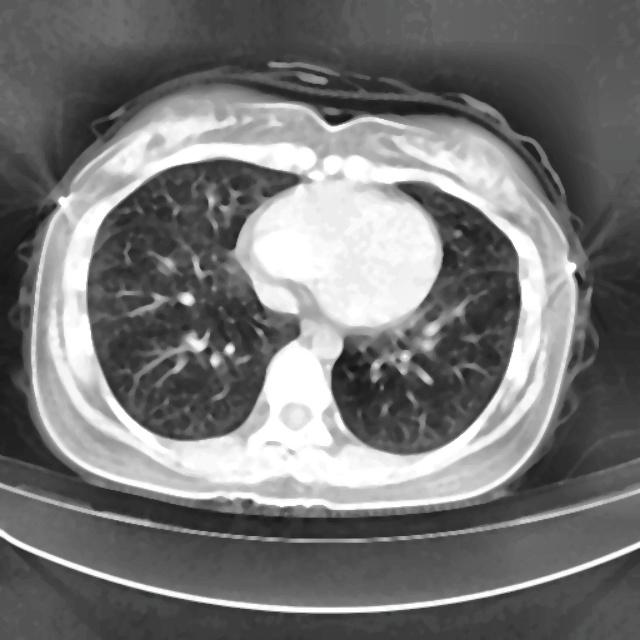covid: (13, 60, 598, 517)
